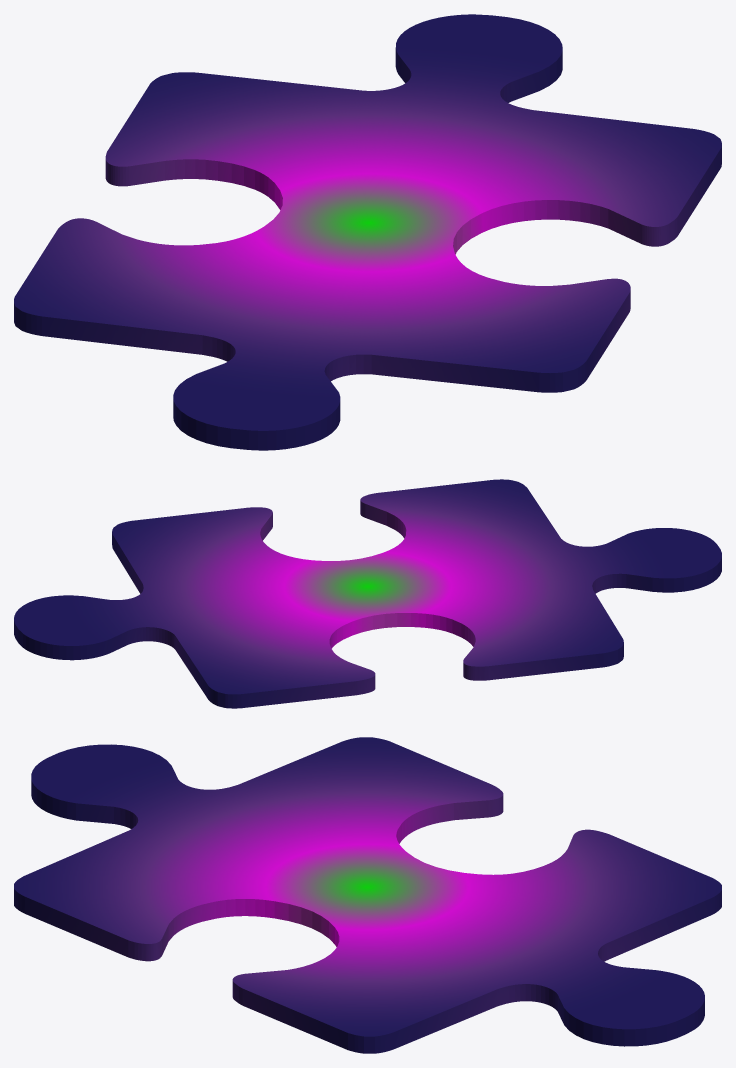
File: puzzle-piece.glb
3 renders of one model, top to bottom at view 1: azimuth 30°, elevation 25°; view 2: azimuth 150°, elevation 25°; view 3: azimuth 270°, elevation 25°, orthographic. The views are drawn at different scales.
Parts seen in each view (by area): view 1: node-0; view 2: node-0; view 3: node-0.
Part boxes in pixels (x1,y1,x2,y2): node-0: (14,14,721,450); node-0: (14,479,721,708); node-0: (14,737,721,1053).
Size of the model in its own units: 1.65 by 0.0444 by 1.65.
Materials: 1 (1 with a texture image).
